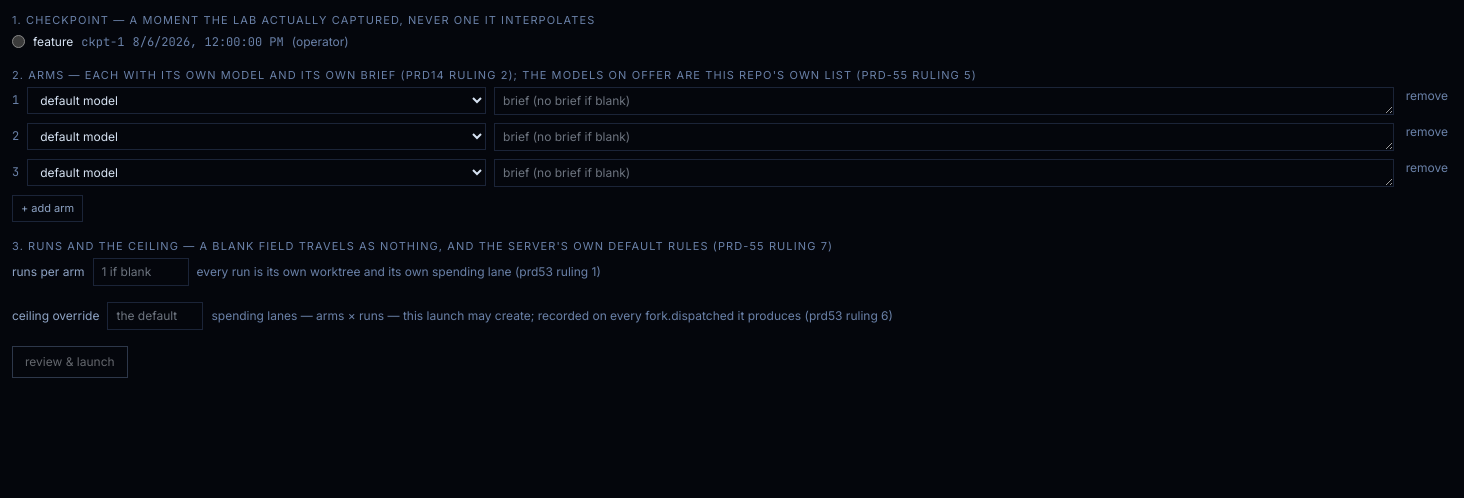
Test: LaunchPanel › says the rate cannot be established in the dim ink, never the alarm's — a lane that has not spent is not a fault
expect the text "feature ckpt-1 8/6/2026, 12:00:00 PM (operator)" is shown: met, box [12,34,349,50]
Step 1. Click the radio button labelled "feature ckpt-1 8/6/2026, 12:00:00 PM (operator)" → click(18, 42), box [12,35,25,48]
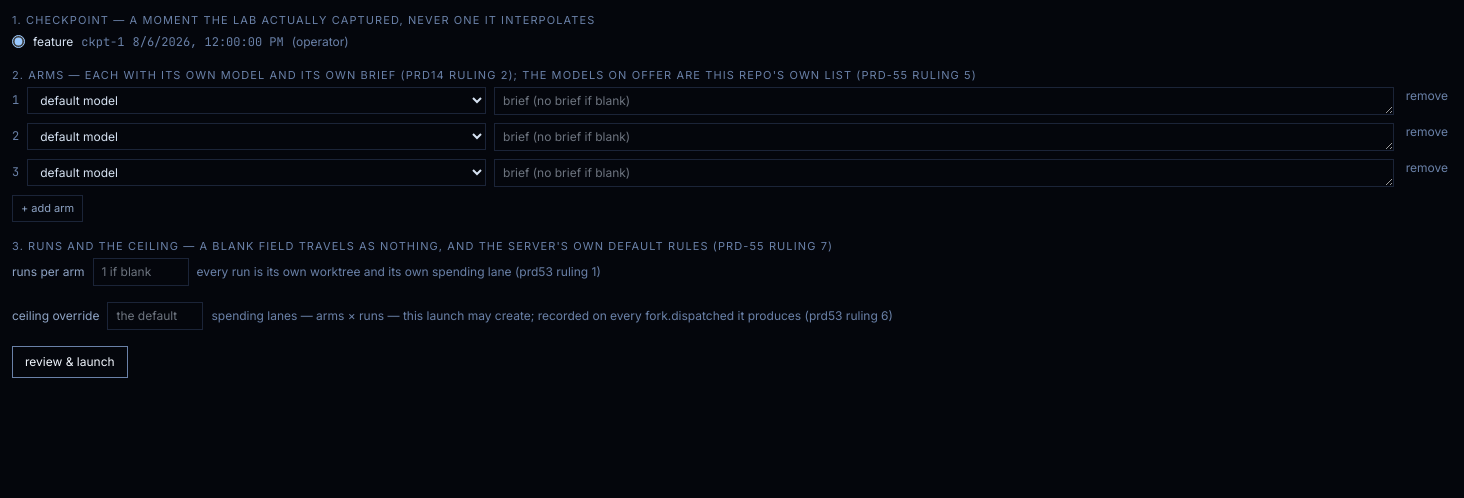
Step 2. Click the button with test id "launch-review" → click(70, 362), box [12,346,128,378]
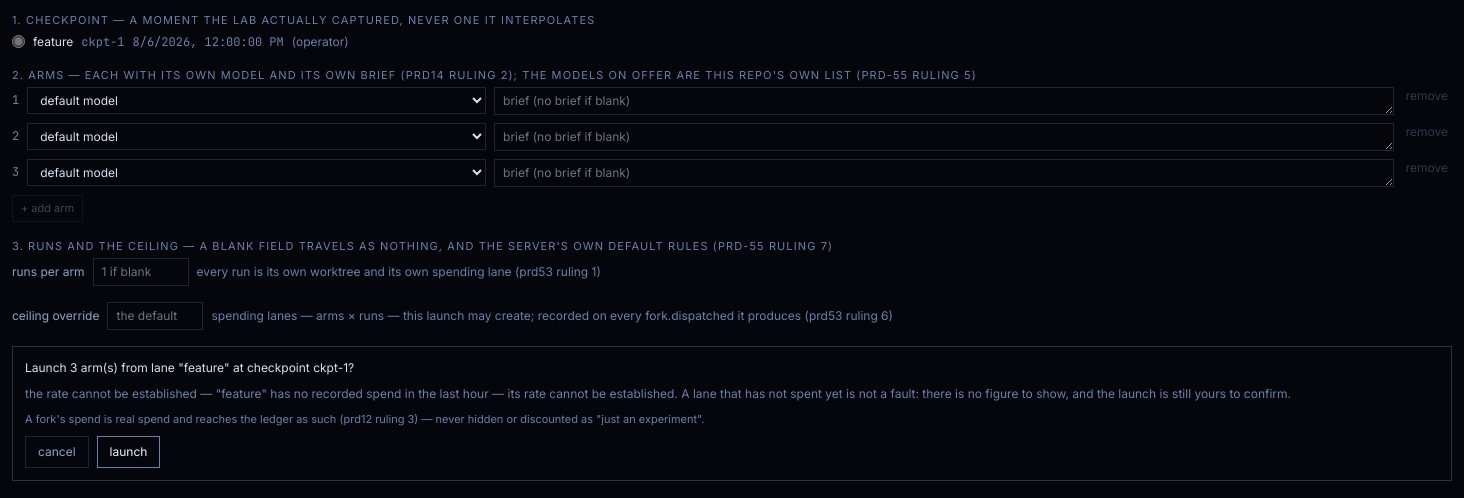
expect the element with test id "launch-confirm-dialog" is shown: met, box [12,346,1452,480]
expect the text with test id "launch-estimate-unavailable" shows "cannot be established": met, box [25,386,216,401]
expect the text with test id "launch-estimate-unavailable" shows "is not a fault": met, box [674,386,1291,401]
